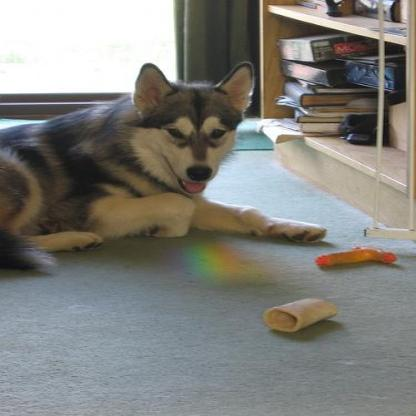malamute: (0, 62, 328, 271)
